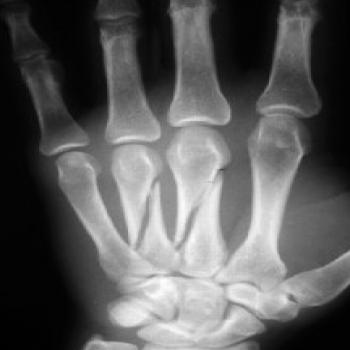Fracture: (174, 164, 238, 246), (122, 171, 169, 257)
